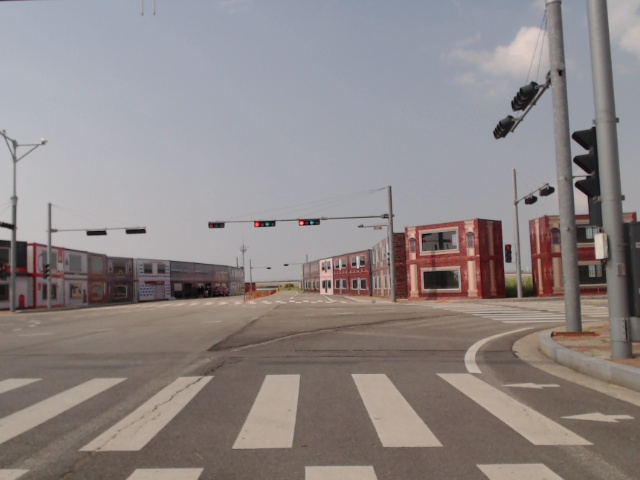left_green_4: (299, 219, 320, 226), (254, 221, 275, 226)
